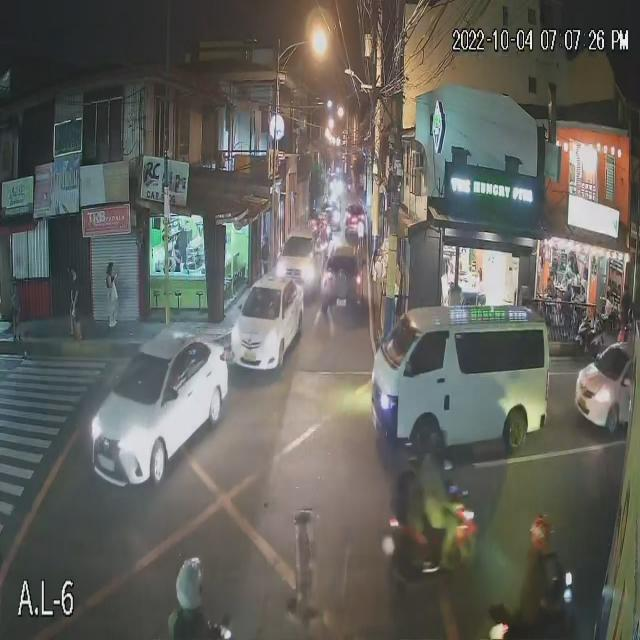helmet: (175, 560, 203, 609), (416, 428, 446, 458), (530, 514, 553, 541)
motorcycle: (379, 480, 478, 640), (490, 572, 580, 640), (575, 300, 613, 355), (171, 615, 243, 640)
rider: (420, 462, 462, 559), (518, 543, 566, 627), (174, 588, 233, 640)
